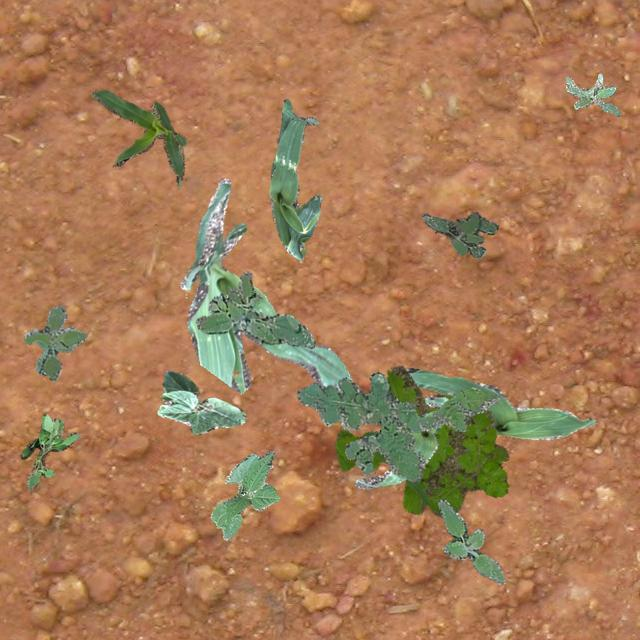crop: (180, 178, 350, 392), (404, 366, 594, 438), (90, 89, 186, 188), (353, 394, 448, 488), (268, 98, 320, 260), (210, 450, 278, 540), (157, 369, 246, 434)
weed: (333, 366, 508, 516), (296, 370, 498, 480), (194, 270, 314, 348), (436, 498, 504, 584), (24, 304, 86, 380), (19, 412, 80, 488), (422, 210, 498, 258), (564, 72, 620, 116)
